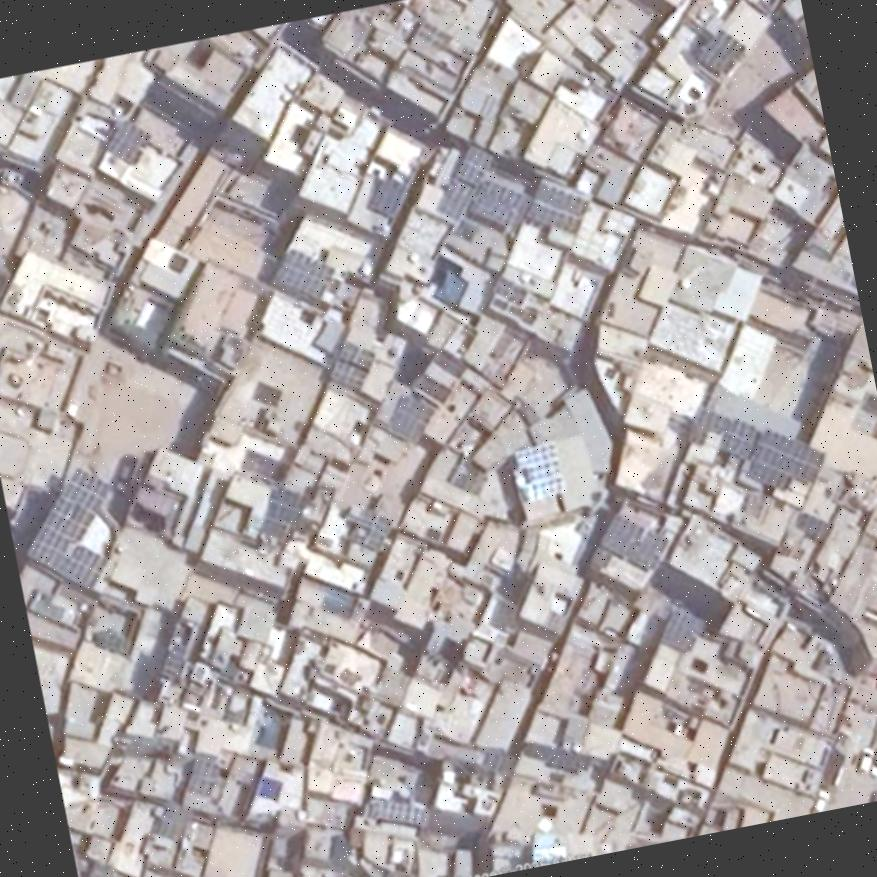Solarpanel: (26, 467, 108, 586), (434, 144, 495, 217), (751, 428, 823, 482), (599, 512, 664, 569), (526, 180, 589, 230), (512, 443, 564, 503), (467, 178, 528, 224), (272, 249, 332, 295), (329, 340, 375, 391), (389, 391, 433, 439), (697, 28, 743, 73), (105, 120, 151, 164), (717, 417, 757, 457), (662, 611, 700, 651), (368, 176, 405, 214), (371, 799, 428, 823)
